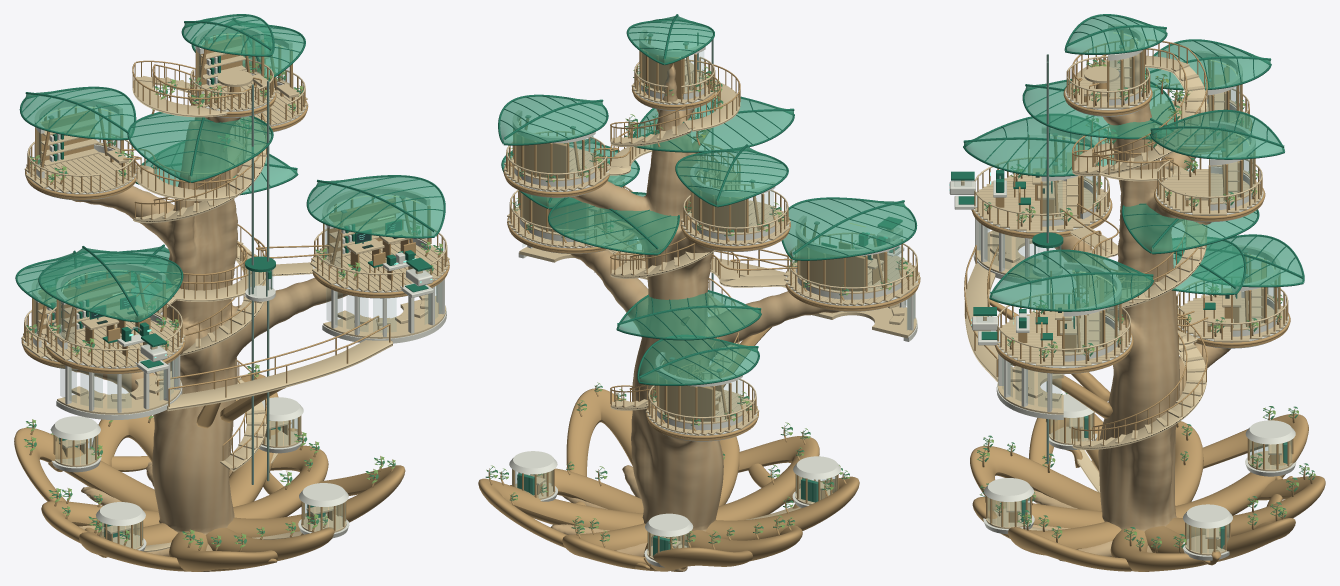
Rendered from opensource-refined-v2.glb.
The picture shows the model from 3 angles, left to right: view 1: azimuth 30°, elevation 25°; view 2: azimuth 150°, elevation 25°; view 3: azimuth 270°, elevation 25°; orthographic projection. The views are drawn at different scales.
Visible parts, largest first — view 1: tree_structural_wood, tree_cut_wood, tree_leaf_glass, tree_growing_wood, tree_ivory, tree_enamel, tree_clear_glass, tree_bronze_alloy, tree_leaf_dark, tree_leaf_fresh; view 2: tree_structural_wood, tree_leaf_glass, tree_growing_wood, tree_cut_wood, tree_enamel, tree_clear_glass, tree_ivory, tree_leaf_dark, tree_leaf_fresh; view 3: tree_structural_wood, tree_cut_wood, tree_leaf_glass, tree_growing_wood, tree_ivory, tree_enamel, tree_clear_glass, tree_leaf_dark, tree_leaf_fresh, tree_bronze_alloy.
Part boxes in pixels (<box>): tree_structural_wood: <box>14,31,449,571</box>; tree_cut_wood: <box>21,45,449,552</box>; tree_leaf_glass: <box>17,15,443,321</box>; tree_growing_wood: <box>71,116,347,571</box>; tree_ivory: <box>23,26,447,551</box>; tree_enamel: <box>15,14,445,537</box>; tree_clear_glass: <box>34,53,441,548</box>; tree_bronze_alloy: <box>48,28,405,484</box>; tree_leaf_dark: <box>24,64,443,545</box>; tree_leaf_fresh: <box>24,62,442,547</box>; tree_structural_wood: <box>478,37,920,571</box>; tree_leaf_glass: <box>500,16,914,383</box>; tree_growing_wood: <box>550,63,840,571</box>; tree_cut_wood: <box>503,56,920,560</box>; tree_enamel: <box>498,14,917,555</box>; tree_clear_glass: <box>512,51,914,556</box>; tree_ivory: <box>505,29,918,567</box>; tree_leaf_dark: <box>485,68,912,544</box>; tree_leaf_fresh: <box>486,66,912,543</box>; tree_structural_wood: <box>964,30,1325,571</box>; tree_cut_wood: <box>964,47,1292,555</box>; tree_leaf_glass: <box>964,15,1303,309</box>; tree_growing_wood: <box>1032,53,1230,571</box>; tree_ivory: <box>954,24,1296,560</box>; tree_enamel: <box>958,14,1304,548</box>; tree_clear_glass: <box>979,50,1291,552</box>; tree_leaf_dark: <box>977,59,1314,548</box>; tree_leaf_fresh: <box>977,60,1315,546</box>; tree_bronze_alloy: <box>999,28,1247,463</box>.
Bounding box in the file's own units: 14.68 × 18.21 × 11.87.
